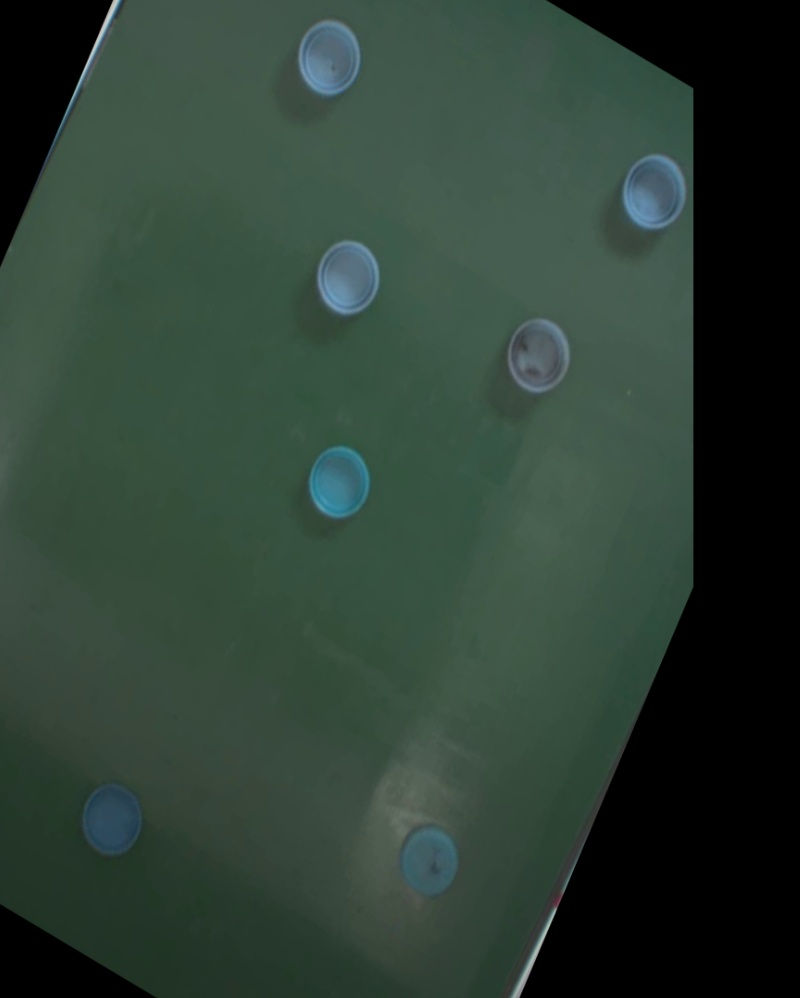Light Blue: (496, 306, 582, 408), (611, 140, 693, 245), (306, 229, 390, 330), (288, 7, 371, 108), (299, 434, 381, 532), (71, 771, 153, 869), (389, 816, 467, 909)
